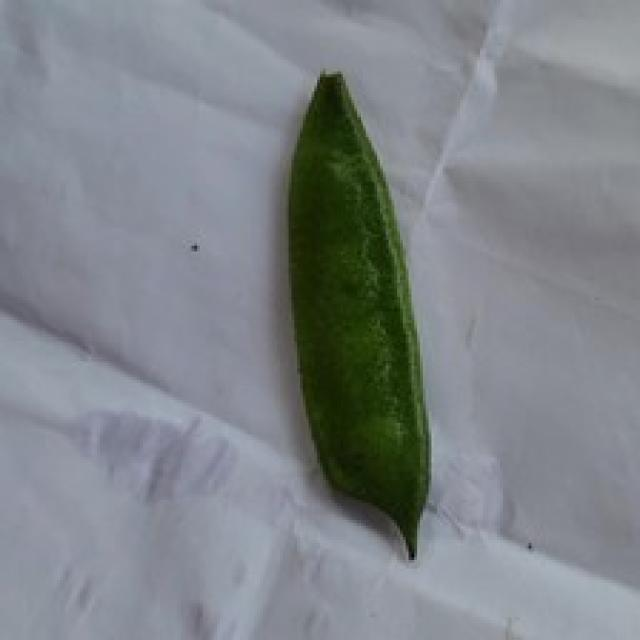Bean: (283, 66, 431, 560)
